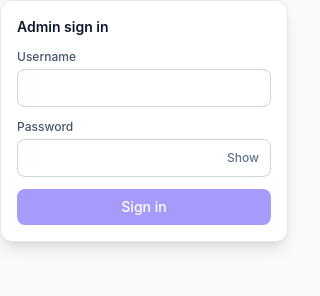
it: admin › shows an error on failed login
In the field labelled "Username": [144, 88] box x1=17 y1=69 x2=271 y2=107, type "admin"
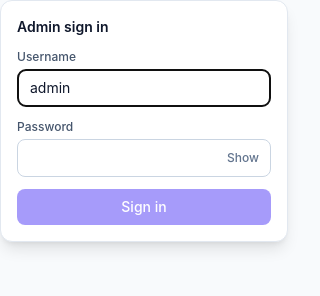
In the password field labelled "Password Show": [144, 158] box x1=17 y1=139 x2=271 y2=177, type "nope"
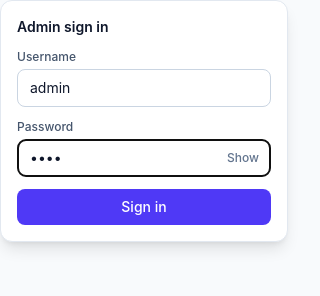
Click the button "Sign in": [144, 207] box x1=17 y1=189 x2=271 y2=225
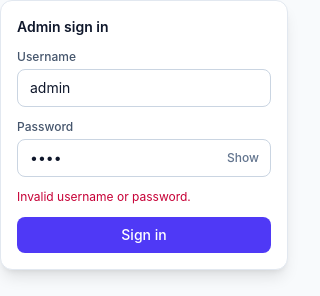
Now the message shows "Invalid username or password", box x1=17 y1=189 x2=191 y2=204
